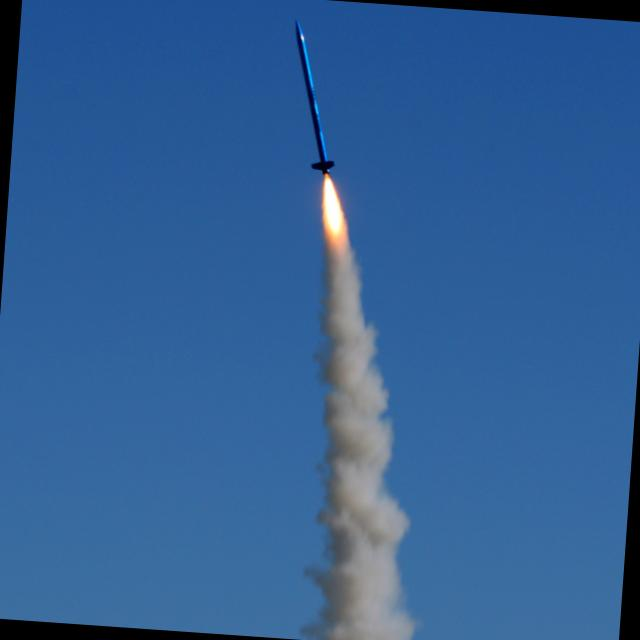rocket: (264, 20, 392, 292)
